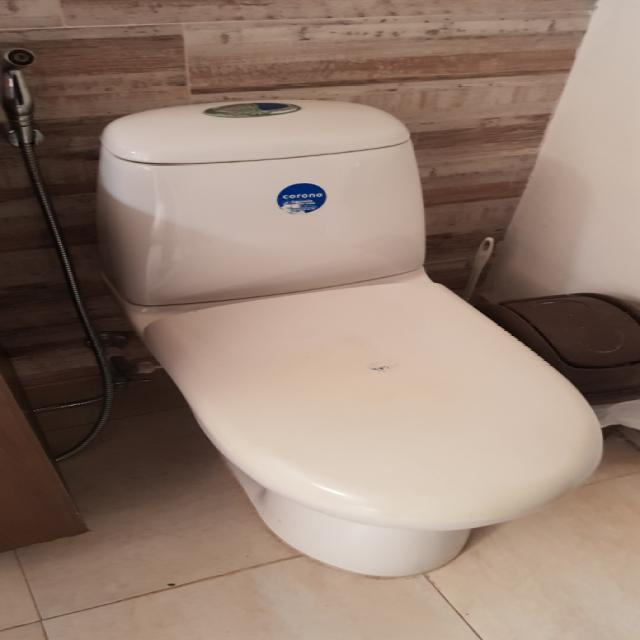toilet: (94, 98, 603, 578)
